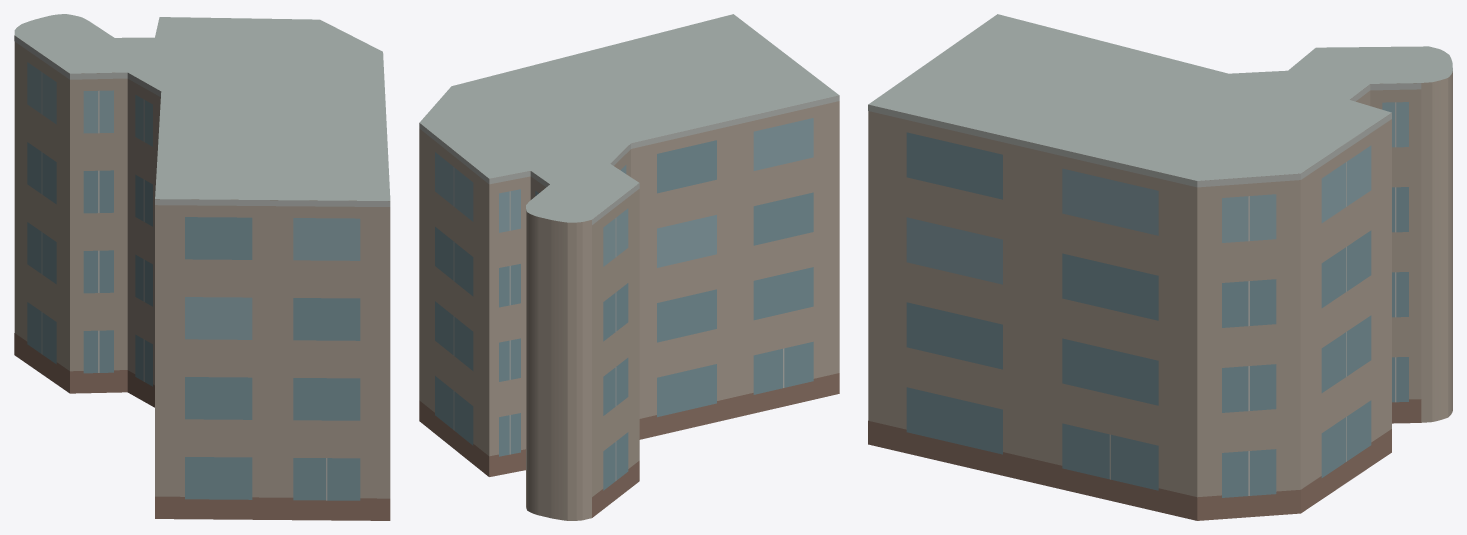
Rendered from survey-upis-32739439.glb.
3 renders of one model, left to right at view 1: azimuth 30°, elevation 25°; view 2: azimuth 150°, elevation 25°; view 3: azimuth 270°, elevation 25°, orthographic. The views are drawn at different scales.
Parts seen in each view (by area): view 1: survey-upis-32739439.tmp; view 2: survey-upis-32739439.tmp; view 3: survey-upis-32739439.tmp.
Part boxes in pixels (x1=…): survey-upis-32739439.tmp: x1=14, y1=14, x2=390, y2=520; survey-upis-32739439.tmp: x1=419, y1=14, x2=839, y2=520; survey-upis-32739439.tmp: x1=868, y1=14, x2=1452, y2=520.
Bounding box in the file's own units: 13.6 × 12.9 × 20.12.
